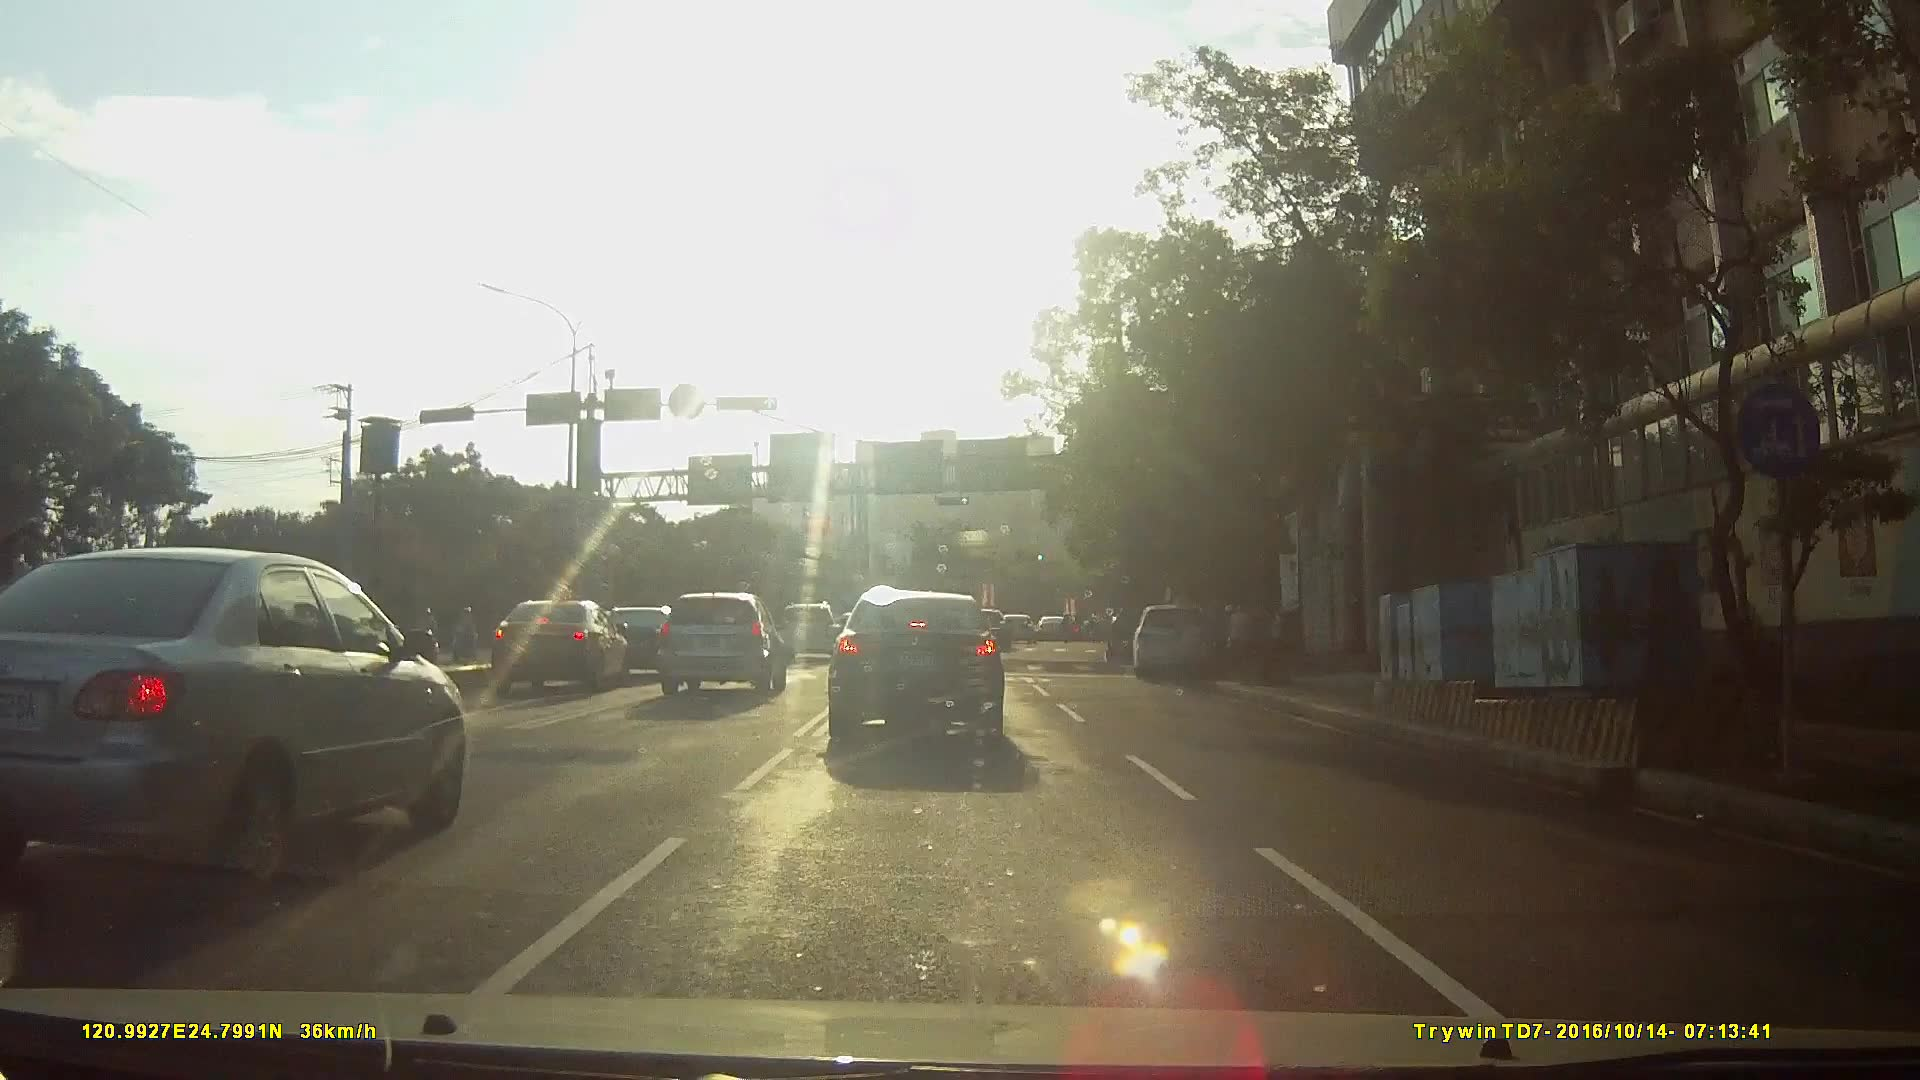pedestrian: (1224, 603, 1253, 668)
rider: (450, 603, 484, 664), (414, 606, 445, 671)
vehicle: (1, 542, 491, 899), (819, 600, 1022, 772), (463, 597, 618, 697), (651, 588, 786, 696), (581, 605, 676, 679), (1137, 602, 1224, 683), (773, 599, 843, 664), (959, 606, 1015, 653), (1001, 612, 1040, 644), (1037, 615, 1076, 643)
